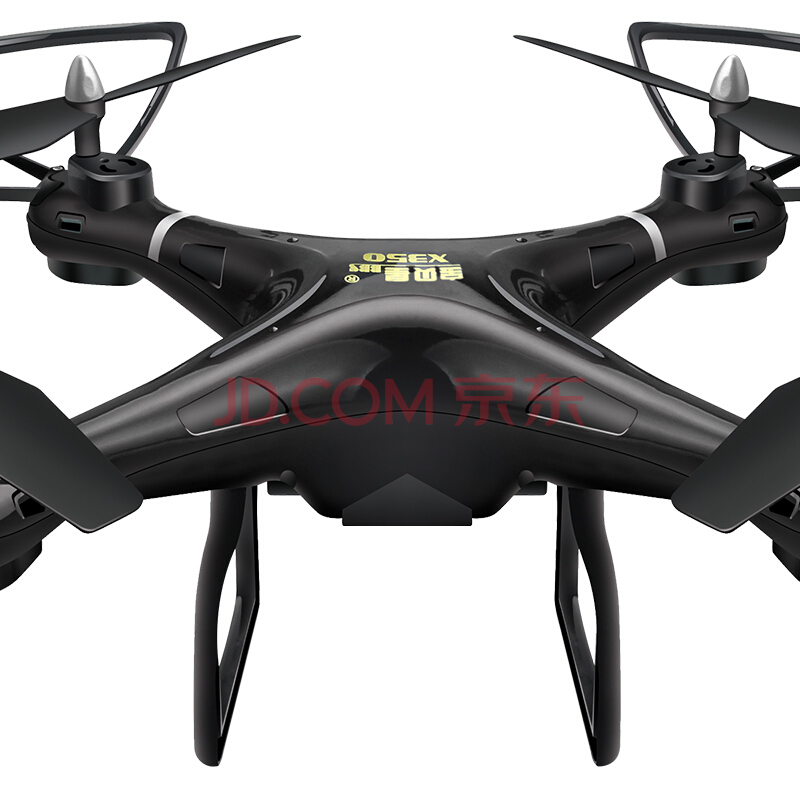drone: (1, 22, 800, 768)
